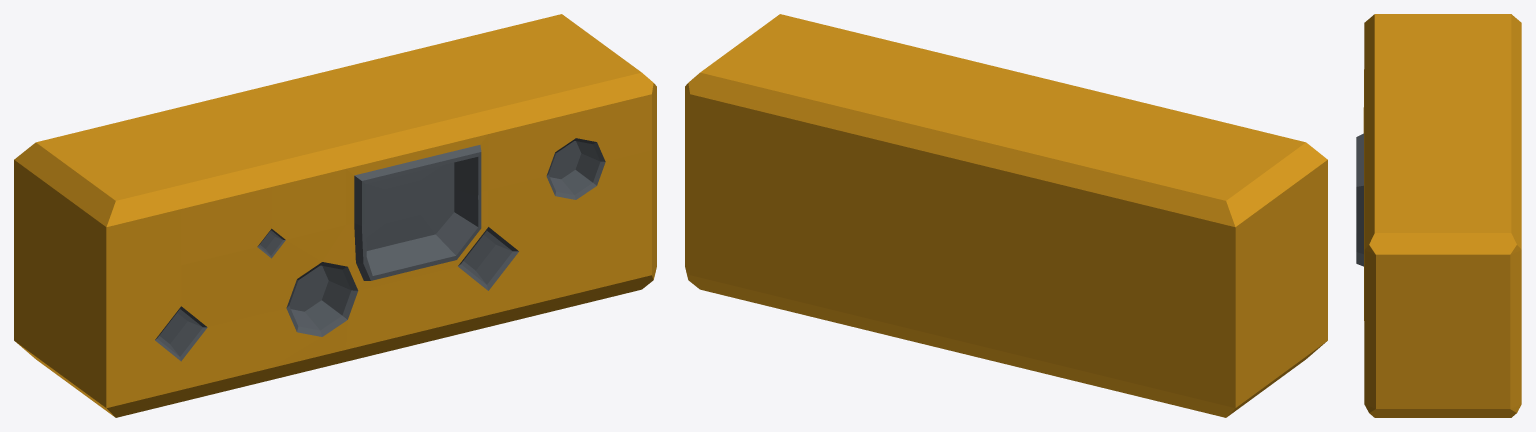
The model's file is Dropship_02_Bumper_Yellow.fbx.
The picture shows the model from 3 angles, left to right: view 1: azimuth 30°, elevation 25°; view 2: azimuth 150°, elevation 25°; view 3: azimuth 270°, elevation 25°; orthographic projection. The views are drawn at different scales.
Parts seen in each view (by area): view 1: Dropship_02_Bumper_Yellow; view 2: Dropship_02_Bumper_Yellow; view 3: Dropship_02_Bumper_Yellow.
Boxes of the visible parts, x1,y1,x2,y2 form: Dropship_02_Bumper_Yellow: (14, 14, 656, 417); Dropship_02_Bumper_Yellow: (685, 14, 1327, 417); Dropship_02_Bumper_Yellow: (1356, 14, 1521, 417).
Size of the model in its own units: 524 by 195 by 158.
Materials: 1 (1 with a texture image).
